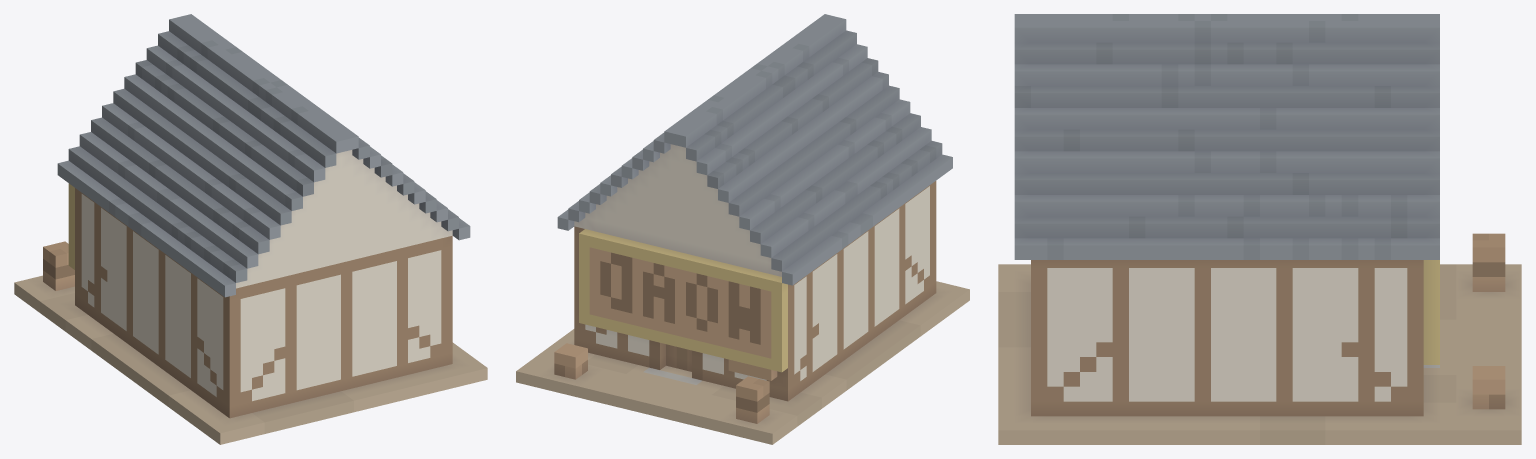
Rendered from woad_farm.glb.
3 renders of one model, left to right at view 1: azimuth 30°, elevation 25°; view 2: azimuth 150°, elevation 25°; view 3: azimuth 270°, elevation 25°, orthographic. The views are drawn at different scales.
Visible parts, largest first — view 1: woad_farm; view 2: woad_farm; view 3: woad_farm.
Part boxes in pixels (<box>): woad_farm: <box>14,14,487,444</box>; woad_farm: <box>516,14,969,444</box>; woad_farm: <box>998,14,1521,444</box>.
Bounding box in the file's own units: 3 × 2.88 × 4.
